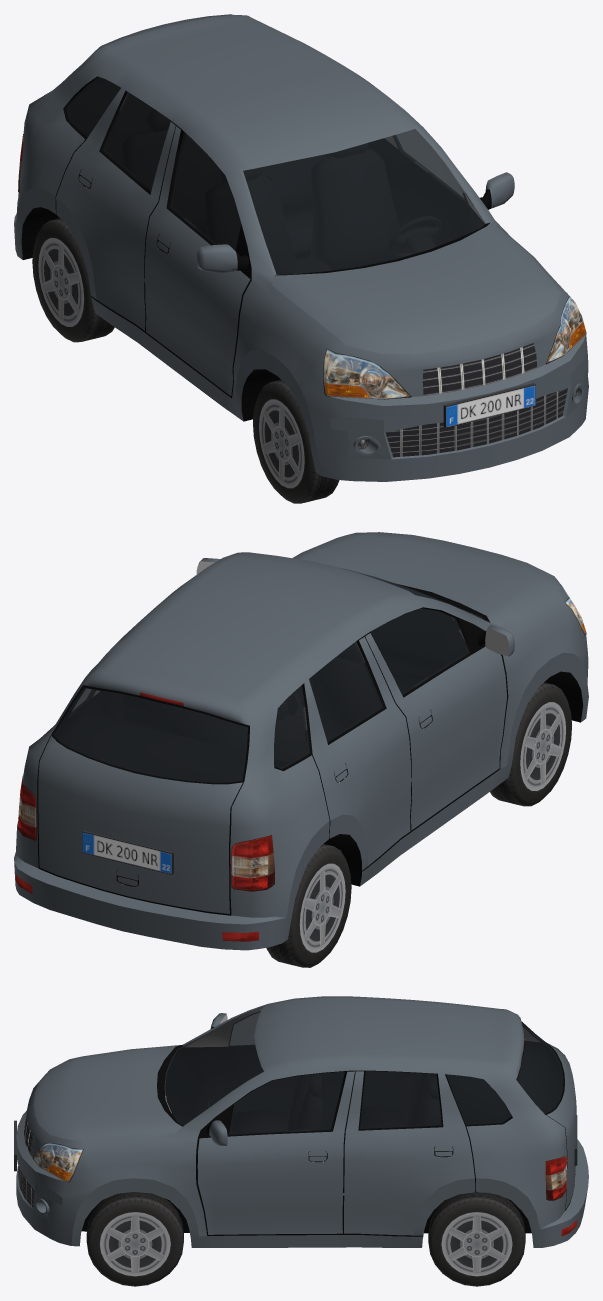
File: suv2.obj
3 renders of one model, top to bottom at view 1: azimuth 30°, elevation 25°; view 2: azimuth 150°, elevation 25°; view 3: azimuth 270°, elevation 25°, orthographic. The views are drawn at different scales.
Visible parts, largest first — view 1: Car_mesh.190, Seating_Cube.005, wheels_Cylinder, InteriorCar_mesh.001, LicensePlate_Cube.003, Rearview_Plane.002, SteeringWheel_Torus, Lines_mesh.002, Cylinder_Cylinder.002; view 2: Car_mesh.190, InteriorCar_mesh.001, wheels_Cylinder, Seating_Cube.005, LicensePlate_Cube.003, Lines_mesh.002, sweethome3d_window_mirror_Plane.003; view 3: Car_mesh.190, wheels_Cylinder, InteriorCar_mesh.001, Seating_Cube.005, Lines_mesh.002, Rearview_Plane.002.
Part boxes in pixels (left/top/right/bottom): Car_mesh.190: left=14, top=14, right=588, bottom=481; Seating_Cube.005: left=122, top=110, right=401, bottom=274; wheels_Cylinder: left=32, top=218, right=339, bottom=503; InteriorCar_mesh.001: left=69, top=77, right=484, bottom=274; LicensePlate_Cube.003: left=443, top=383, right=535, bottom=427; Rearview_Plane.002: left=196, top=172, right=514, bottom=273; SteeringWheel_Torus: left=388, top=216, right=442, bottom=257; Lines_mesh.002: left=55, top=121, right=251, bottom=398; Cylinder_Cylinder.002: left=353, top=383, right=583, bottom=455; Car_mesh.190: left=14, top=532, right=588, bottom=950; InteriorCar_mesh.001: left=55, top=577, right=481, bottom=782; wheels_Cylinder: left=266, top=682, right=571, bottom=967; Seating_Cube.005: left=122, top=642, right=380, bottom=762; LicensePlate_Cube.003: left=82, top=830, right=173, bottom=874; Lines_mesh.002: left=37, top=632, right=508, bottom=915; sweethome3d_window_mirror_Plane.003: left=196, top=561, right=508, bottom=656; Car_mesh.190: left=16, top=996, right=588, bottom=1247; wheels_Cylinder: left=86, top=1192, right=525, bottom=1286; InteriorCar_mesh.001: left=165, top=1007, right=561, bottom=1133; Seating_Cube.005: left=232, top=1073, right=440, bottom=1133; Lines_mesh.002: left=196, top=1047, right=575, bottom=1236; Rearview_Plane.002: left=206, top=1013, right=227, bottom=1145.
Size of the model in its own units: 209 by 176 by 427.
25 materials, 8 textured.
